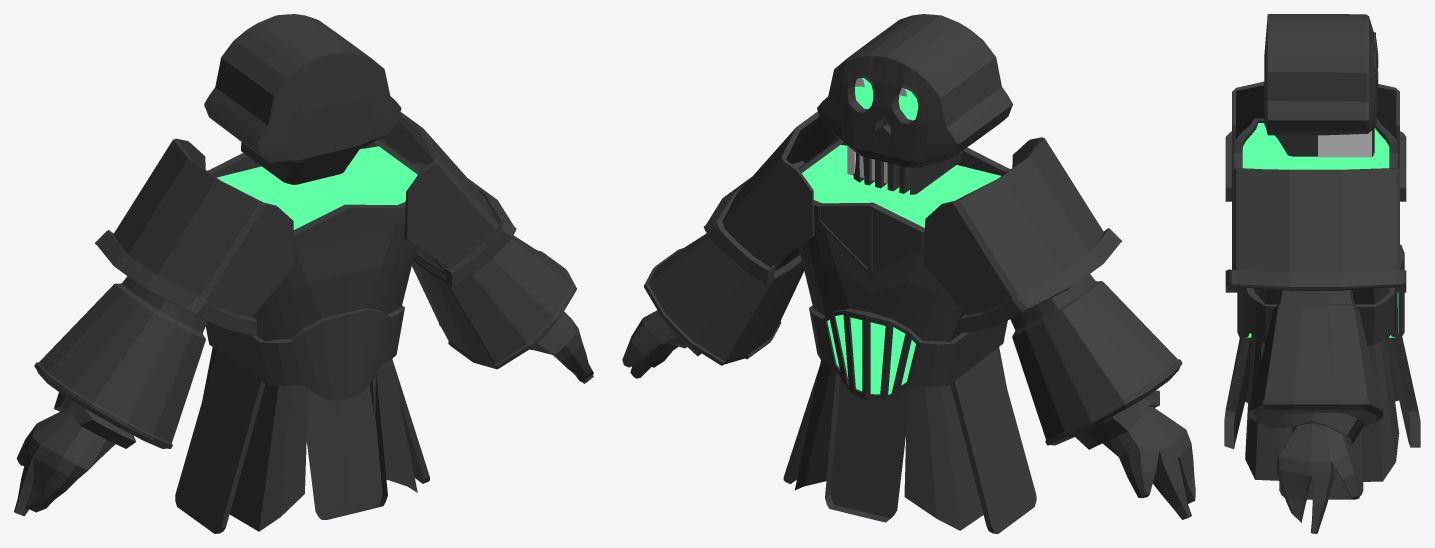
Rendered from calavera.fbx.
3 views of the same model, side by side, from view 1: azimuth 30°, elevation 25°; view 2: azimuth 150°, elevation 25°; view 3: azimuth 270°, elevation 25° (orthographic). The views are drawn at different scales.
Visible parts, largest first — view 1: armadura_fantasma, hombrera, brazos, cabeza, mano, mano.001; view 2: armadura_fantasma, hombrera, brazos, cabeza, mano, mano.001; view 3: hombrera, armadura_fantasma, cabeza, brazos, mano.001, caraAux.
Boxes of the visible parts, box(x1,y1,x2,y2) form: armadura_fantasma: box(175, 140, 429, 533); hombrera: box(95, 112, 516, 335); brazos: box(34, 162, 576, 448); cabeza: box(204, 14, 401, 184); mano: box(14, 392, 136, 516); mano.001: box(530, 311, 593, 383); armadura_fantasma: box(783, 139, 1036, 533); hombrera: box(703, 111, 1122, 332); brazos: box(643, 161, 1182, 445); cabeza: box(817, 14, 1012, 194); mano: box(1075, 390, 1195, 519); mano.001: box(622, 310, 701, 378); hombrera: box(1225, 81, 1406, 292); armadura_fantasma: box(1224, 118, 1420, 499); cabeza: box(1264, 14, 1378, 156); brazos: box(1249, 290, 1382, 427); mano.001: box(1277, 412, 1363, 533); caraAux: box(1318, 131, 1371, 157).
Size of the model in its own units: 355 by 274 by 113.
